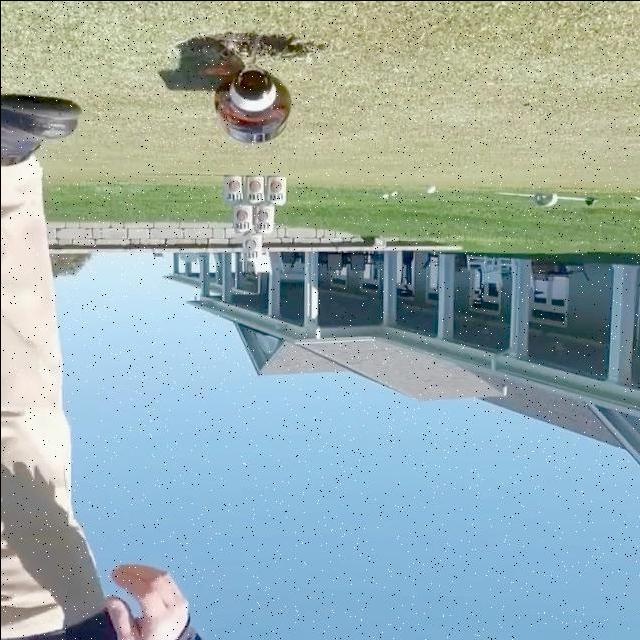golf ball: (425, 185, 435, 193), (390, 190, 397, 196), (382, 191, 389, 197)
